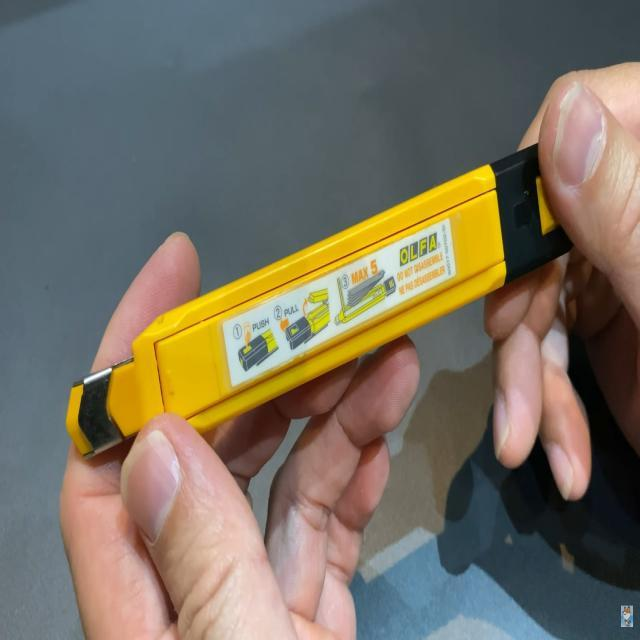cutter: (31, 36, 640, 640)
